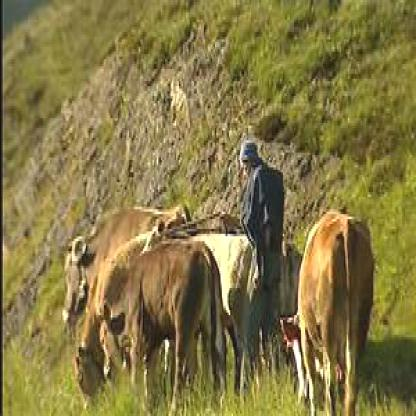cow: (283, 209, 378, 414), (100, 241, 220, 401)
